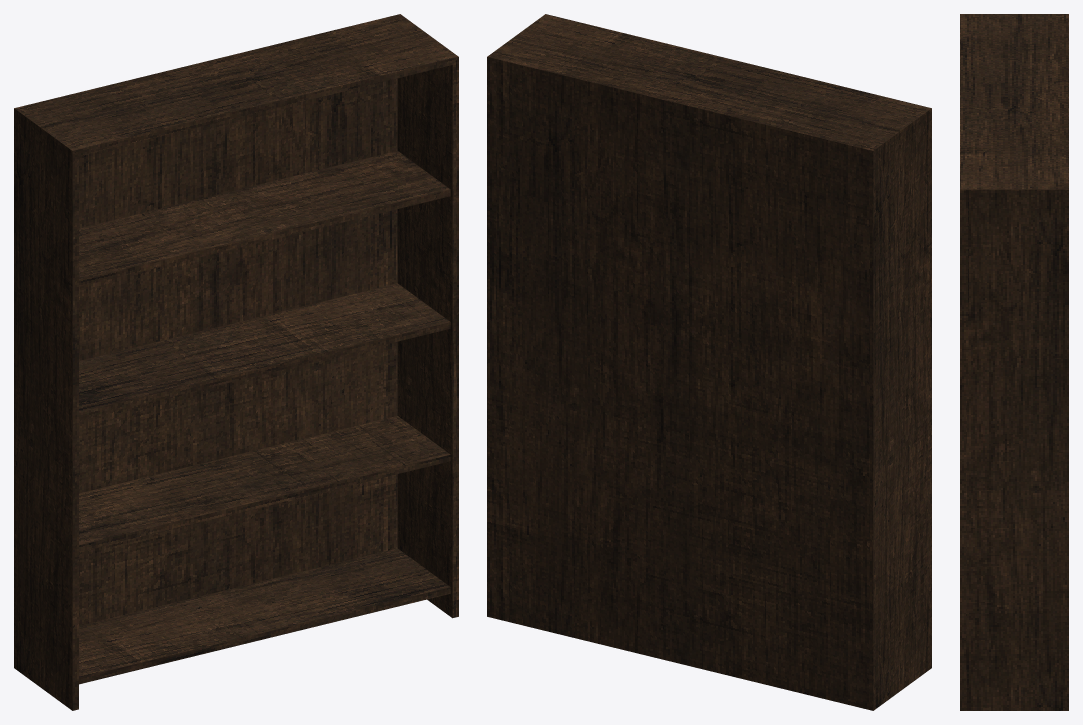
The model's file is shelf_mp_5_1.glb.
3 views of the same model, side by side, from view 1: azimuth 30°, elevation 25°; view 2: azimuth 150°, elevation 25°; view 3: azimuth 270°, elevation 25° (orthographic). The views are drawn at different scales.
Visible parts, largest first — view 1: shelf_mp_5_1; view 2: shelf_mp_5_1; view 3: shelf_mp_5_1.
Boxes of the visible parts, x1=… form: shelf_mp_5_1: x1=14, y1=14, x2=458, y2=710; shelf_mp_5_1: x1=487, y1=14, x2=931, y2=710; shelf_mp_5_1: x1=960, y1=14, x2=1068, y2=710.
Size of the model in its own units: 1.22 by 1.69 by 0.32.
Materials: 1 (1 with a texture image).
